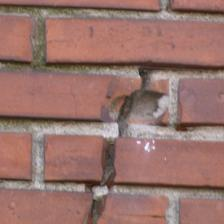Crack: (44, 33, 126, 188)
